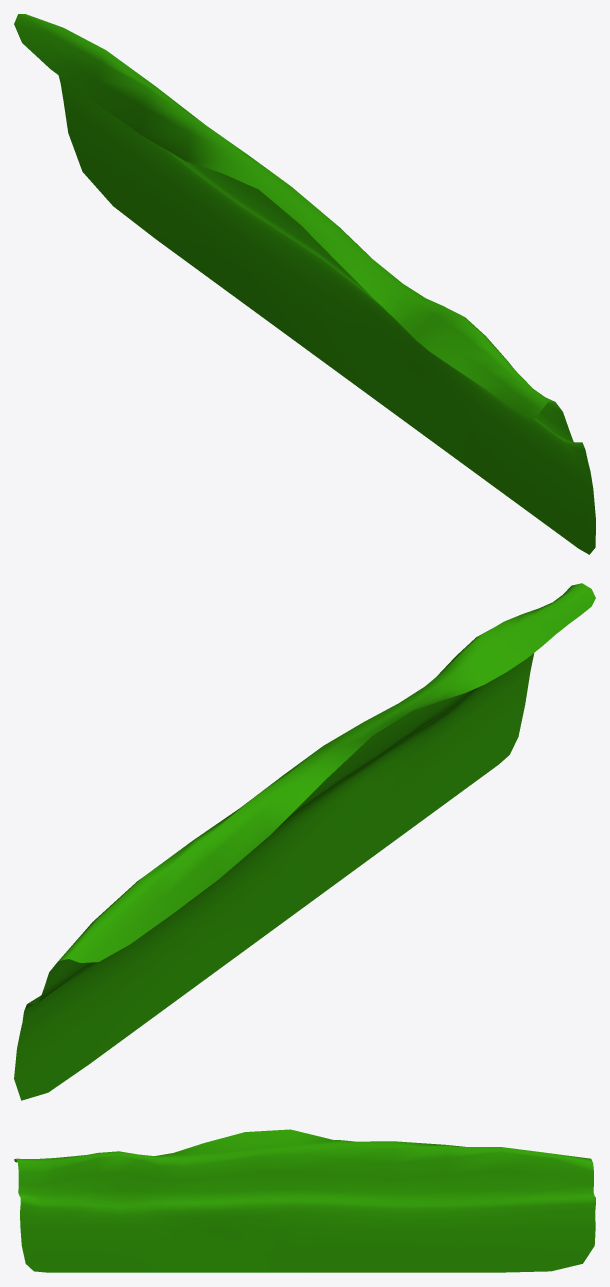
File: Terraign2.fbx
3 views of the same model, one above another, from view 1: azimuth 30°, elevation 25°; view 2: azimuth 150°, elevation 25°; view 3: azimuth 270°, elevation 25° (orthographic). The views are drawn at different scales.
Visible parts, largest first — view 1: Plane; view 2: Plane; view 3: Plane.
Part boxes in pixels (<box>): Plane: <box>14,14,595,554</box>; Plane: <box>14,583,595,1100</box>; Plane: <box>14,1129,595,1272</box>.
Bounding box in the file's own units: 554 × 1216 × 5437.
